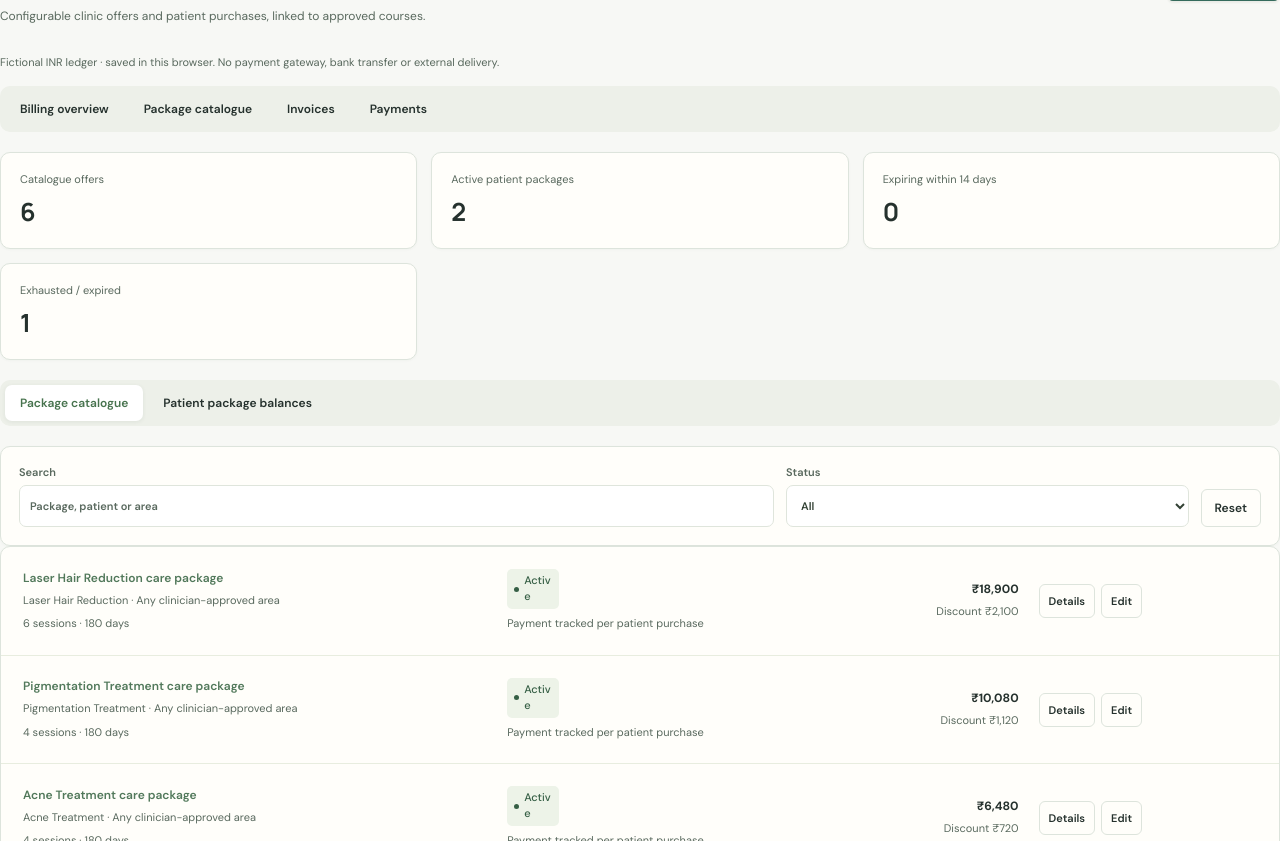
Scenario: finance workspace UI › edits a package catalogue offer and shows the existing course balance separately
Step 1. Type "Laser Hair" into the field named "Search packages" → (396, 506), box [19,486,774,528]
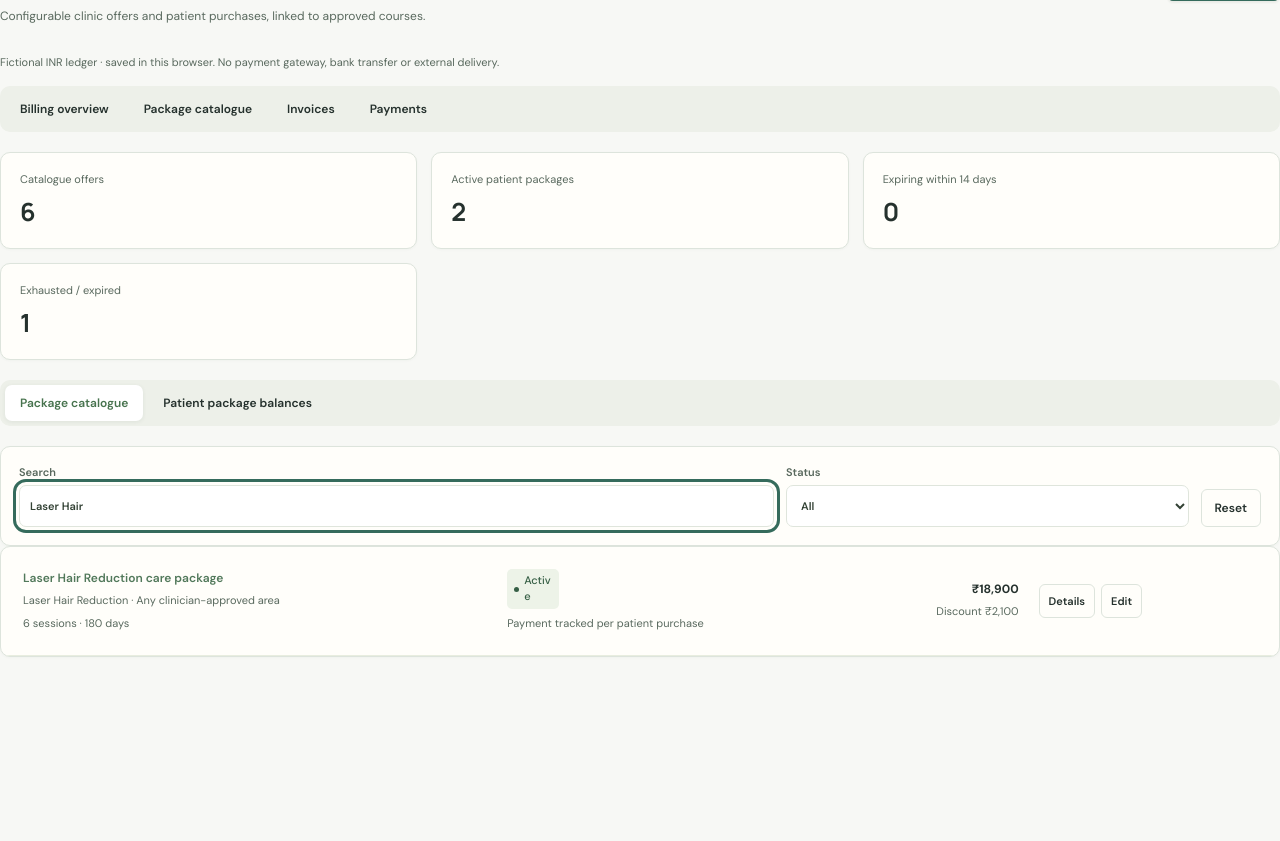
Step 2. Click the button "Edit" → (1122, 601), box [1101,584,1142,618]
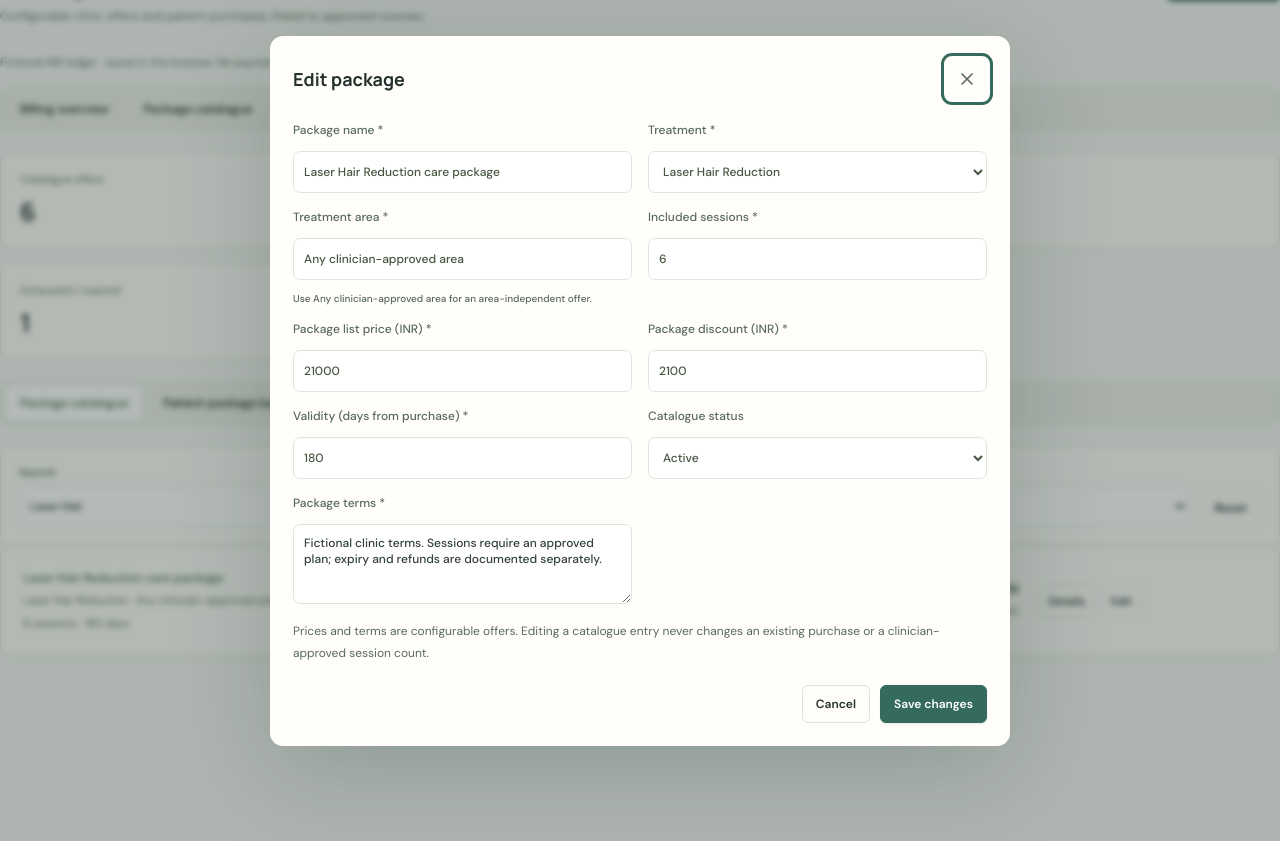
Step 3. Replace the text in the number field labelled "Package discount (INR) *" with "500" → (818, 371), box [648,350,987,392]
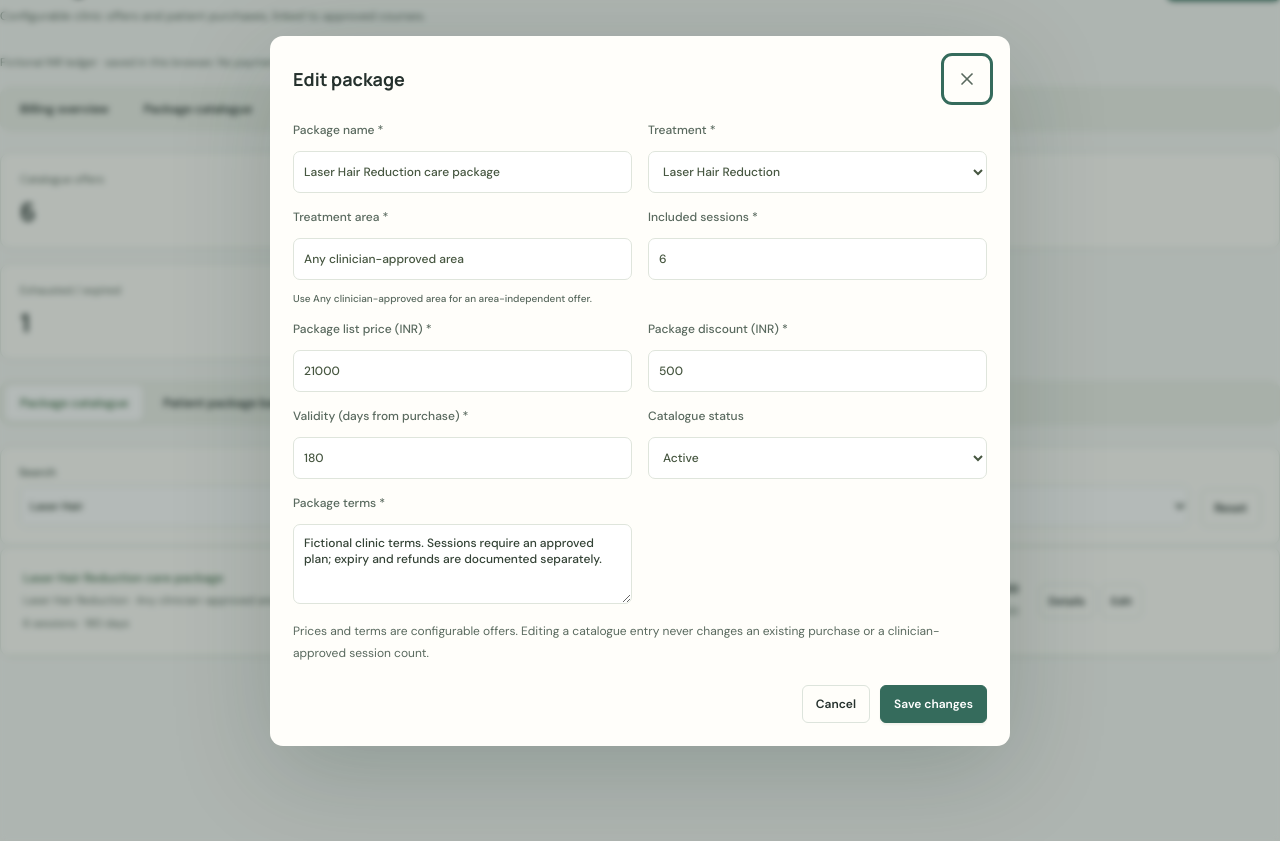
Step 4. Click the button "Save changes" → (934, 704), box [880,685,987,723]
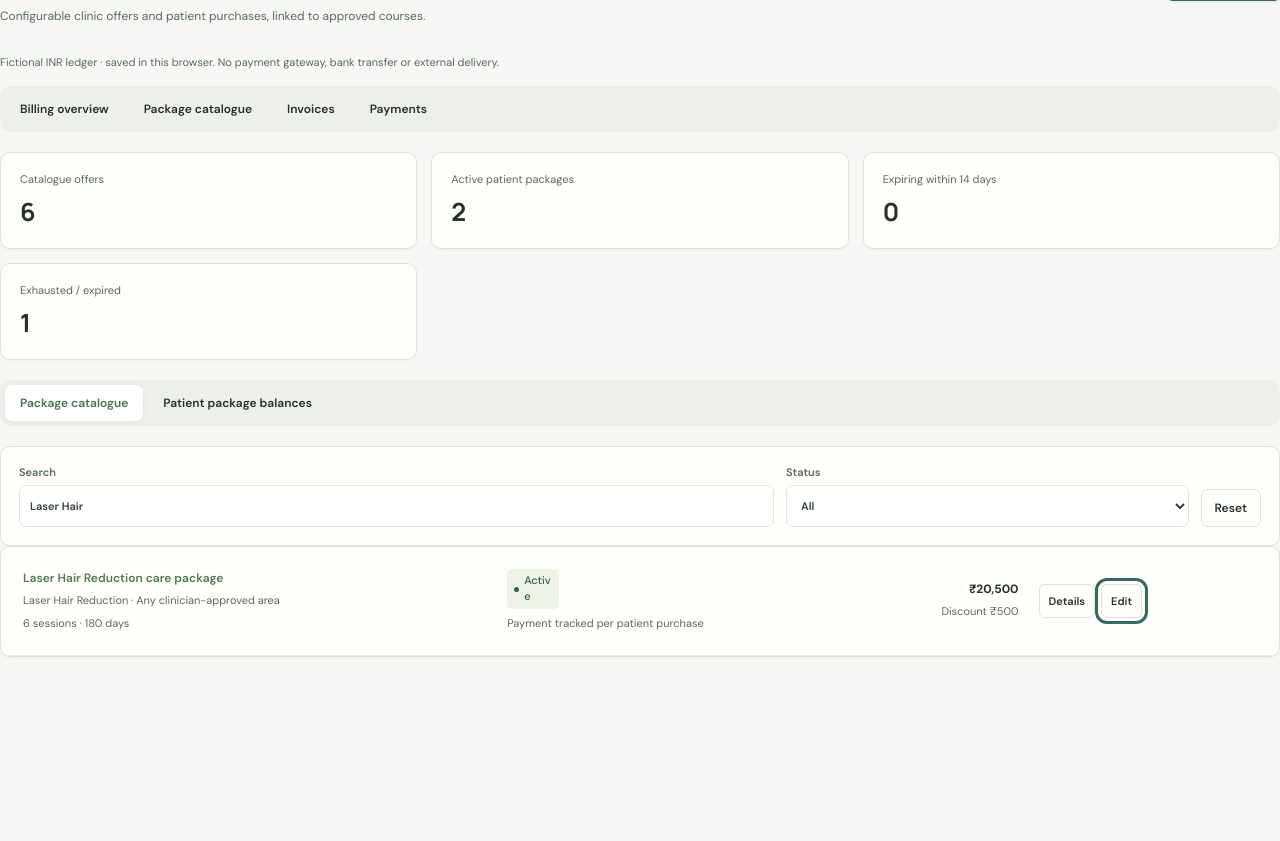
Step 5. Click the button "Patient package balances" → (238, 404), box [148,386,327,422]
(page scrolled)
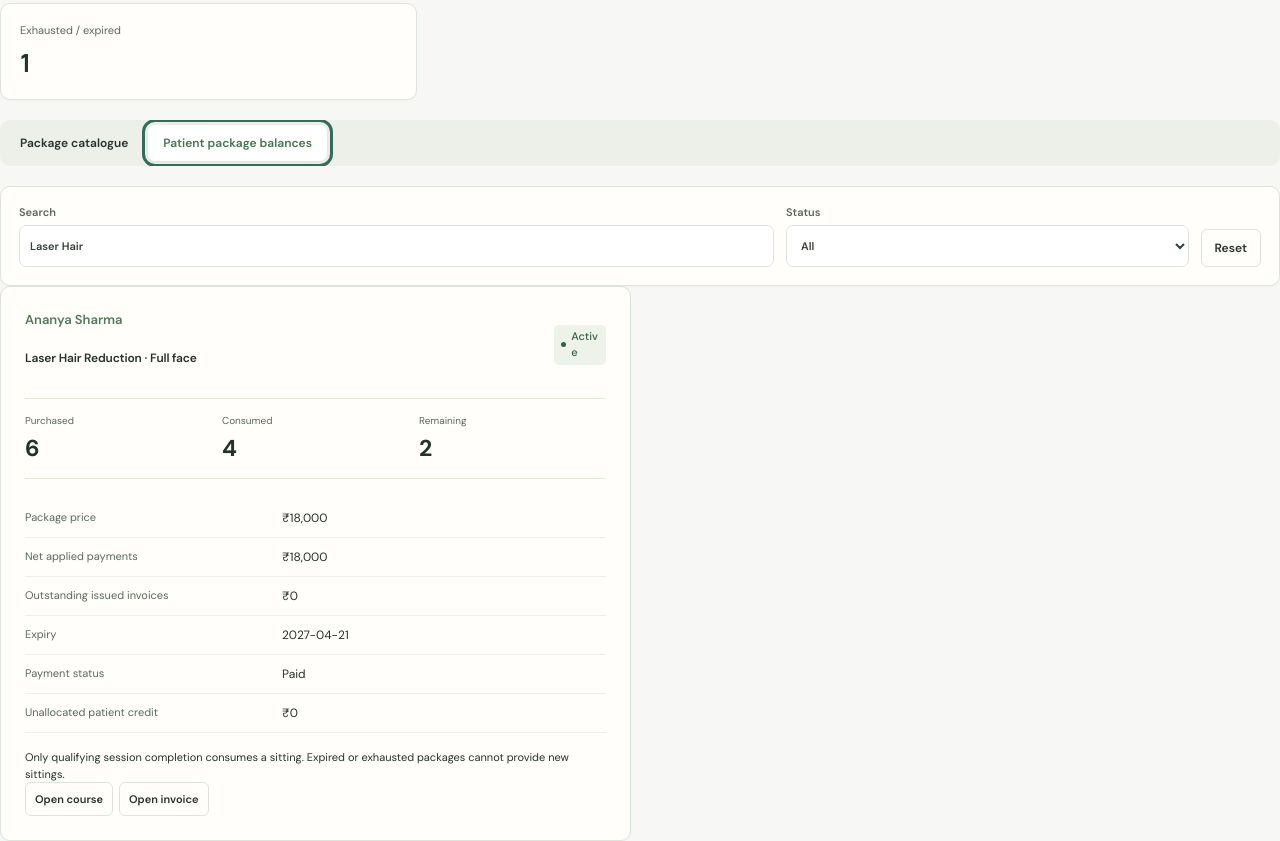
Now the text "Purchased" is shown, box [25,414,74,428]
Now the link "Open course" is shown, box [25,782,113,816]
